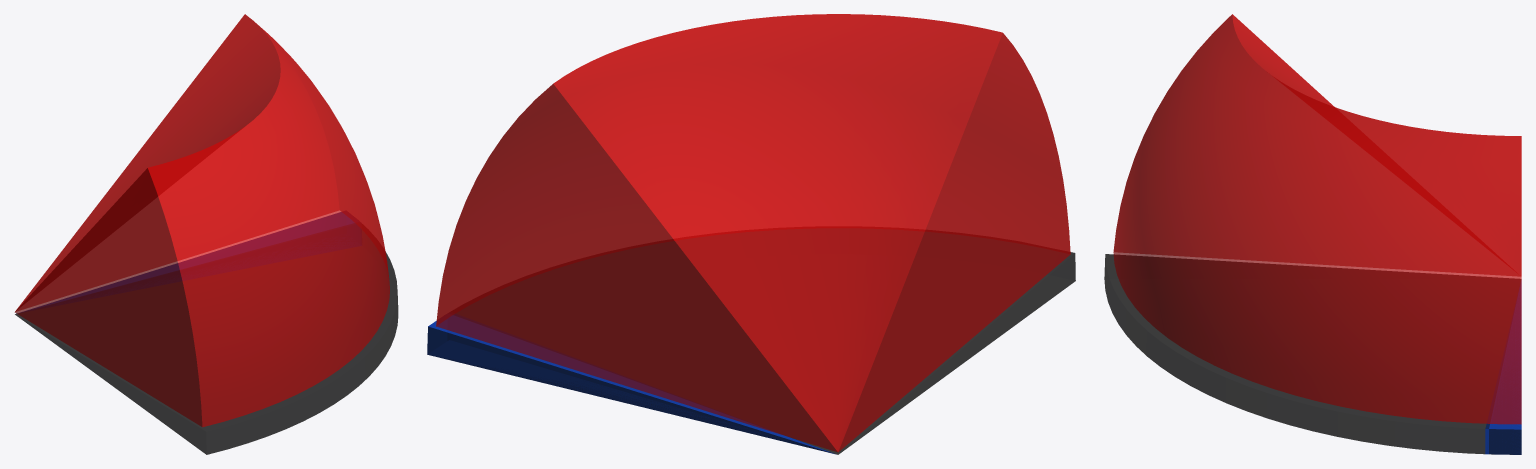
File: ScanArea.fbx
3 views of the same model, side by side, from view 1: azimuth 30°, elevation 25°; view 2: azimuth 150°, elevation 25°; view 3: azimuth 270°, elevation 25° (orthographic). The views are drawn at different scales.
Visible parts, largest first — view 1: nablud, obzor, Beam; view 2: nablud, obzor, Beam; view 3: nablud, obzor, Beam.
Boxes of the visible parts, left/top/right/bottom form: nablud: left=14, top=14, right=389, bottom=426; obzor: left=15, top=223, right=398, bottom=454; Beam: left=31, top=212, right=353, bottom=309; nablud: left=436, top=14, right=1070, bottom=452; obzor: left=427, top=228, right=1075, bottom=454; Beam: left=427, top=315, right=835, bottom=454; nablud: left=1113, top=14, right=1521, bottom=424; obzor: left=1104, top=254, right=1521, bottom=454; Beam: left=1485, top=284, right=1521, bottom=454.
Size of the model in its own units: 640 by 449 by 641.
